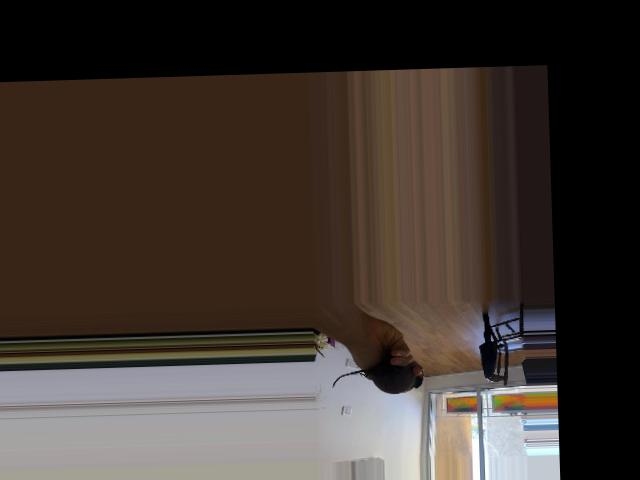beet: (333, 362, 425, 395)
